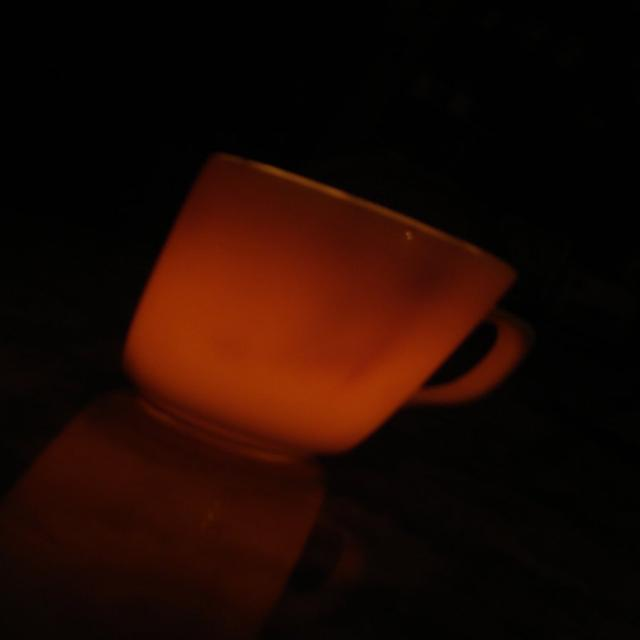Cup: (141, 138, 562, 492)
